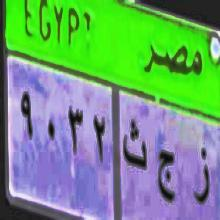0: (45, 107, 59, 159)
2: (90, 106, 111, 170)
3: (66, 105, 86, 172)
9: (18, 86, 40, 151)
jeem: (156, 137, 180, 207)
thaa: (124, 122, 148, 179)
zay: (191, 144, 212, 212)
